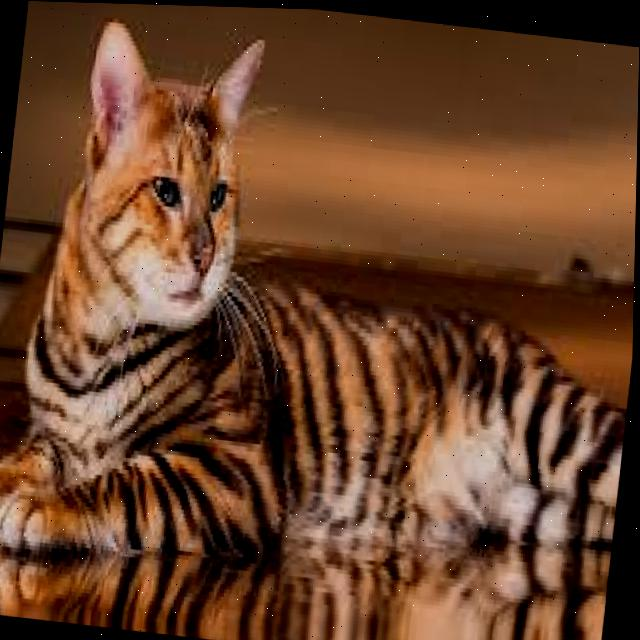Toyger: (0, 0, 640, 616)
